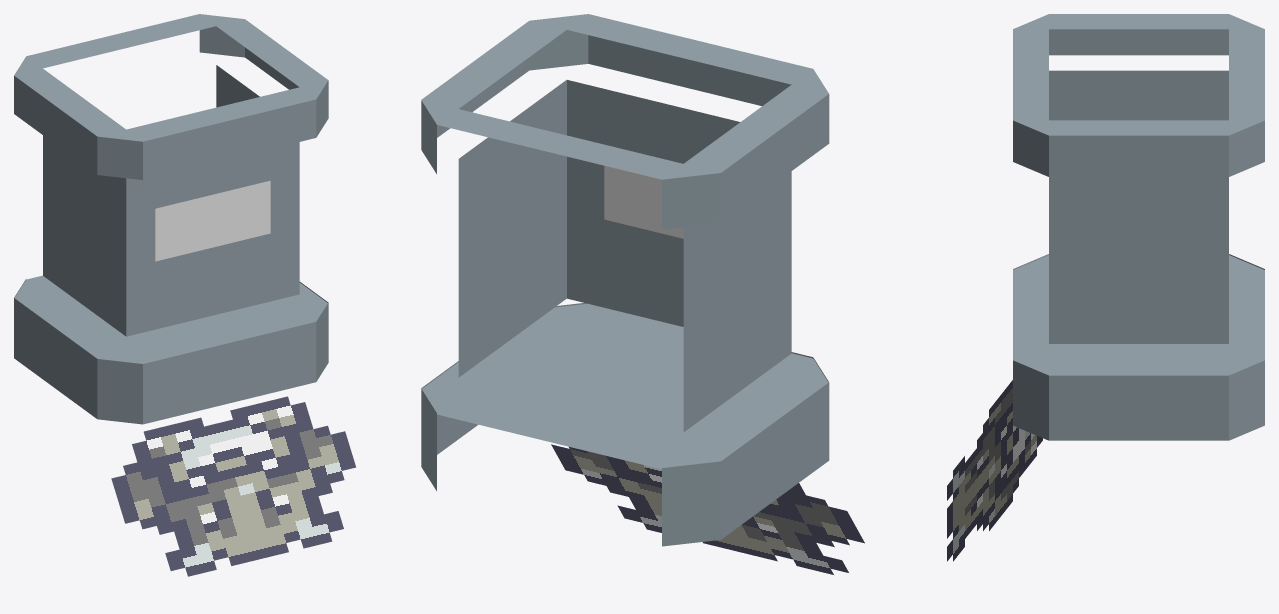
Rendered from Gym Statue Reflection.obj.
3 renders of one model, left to right at view 1: azimuth 30°, elevation 25°; view 2: azimuth 150°, elevation 25°; view 3: azimuth 270°, elevation 25°, orthographic. The views are drawn at different scales.
Visible parts, largest first — view 1: polygon1, polygon0; view 2: polygon1, polygon0; view 3: polygon1, polygon0.
Part boxes in pixels (<box>): polygon1: <box>14,14,328,424</box>; polygon0: <box>111,396,356,576</box>; polygon1: <box>421,14,829,546</box>; polygon0: <box>551,444,864,574</box>; polygon1: <box>1013,14,1264,440</box>; polygon0: <box>947,380,1042,561</box>.
Size of the model in its own units: 18 by 28 by 18.
Materials: 2 (2 with a texture image).
